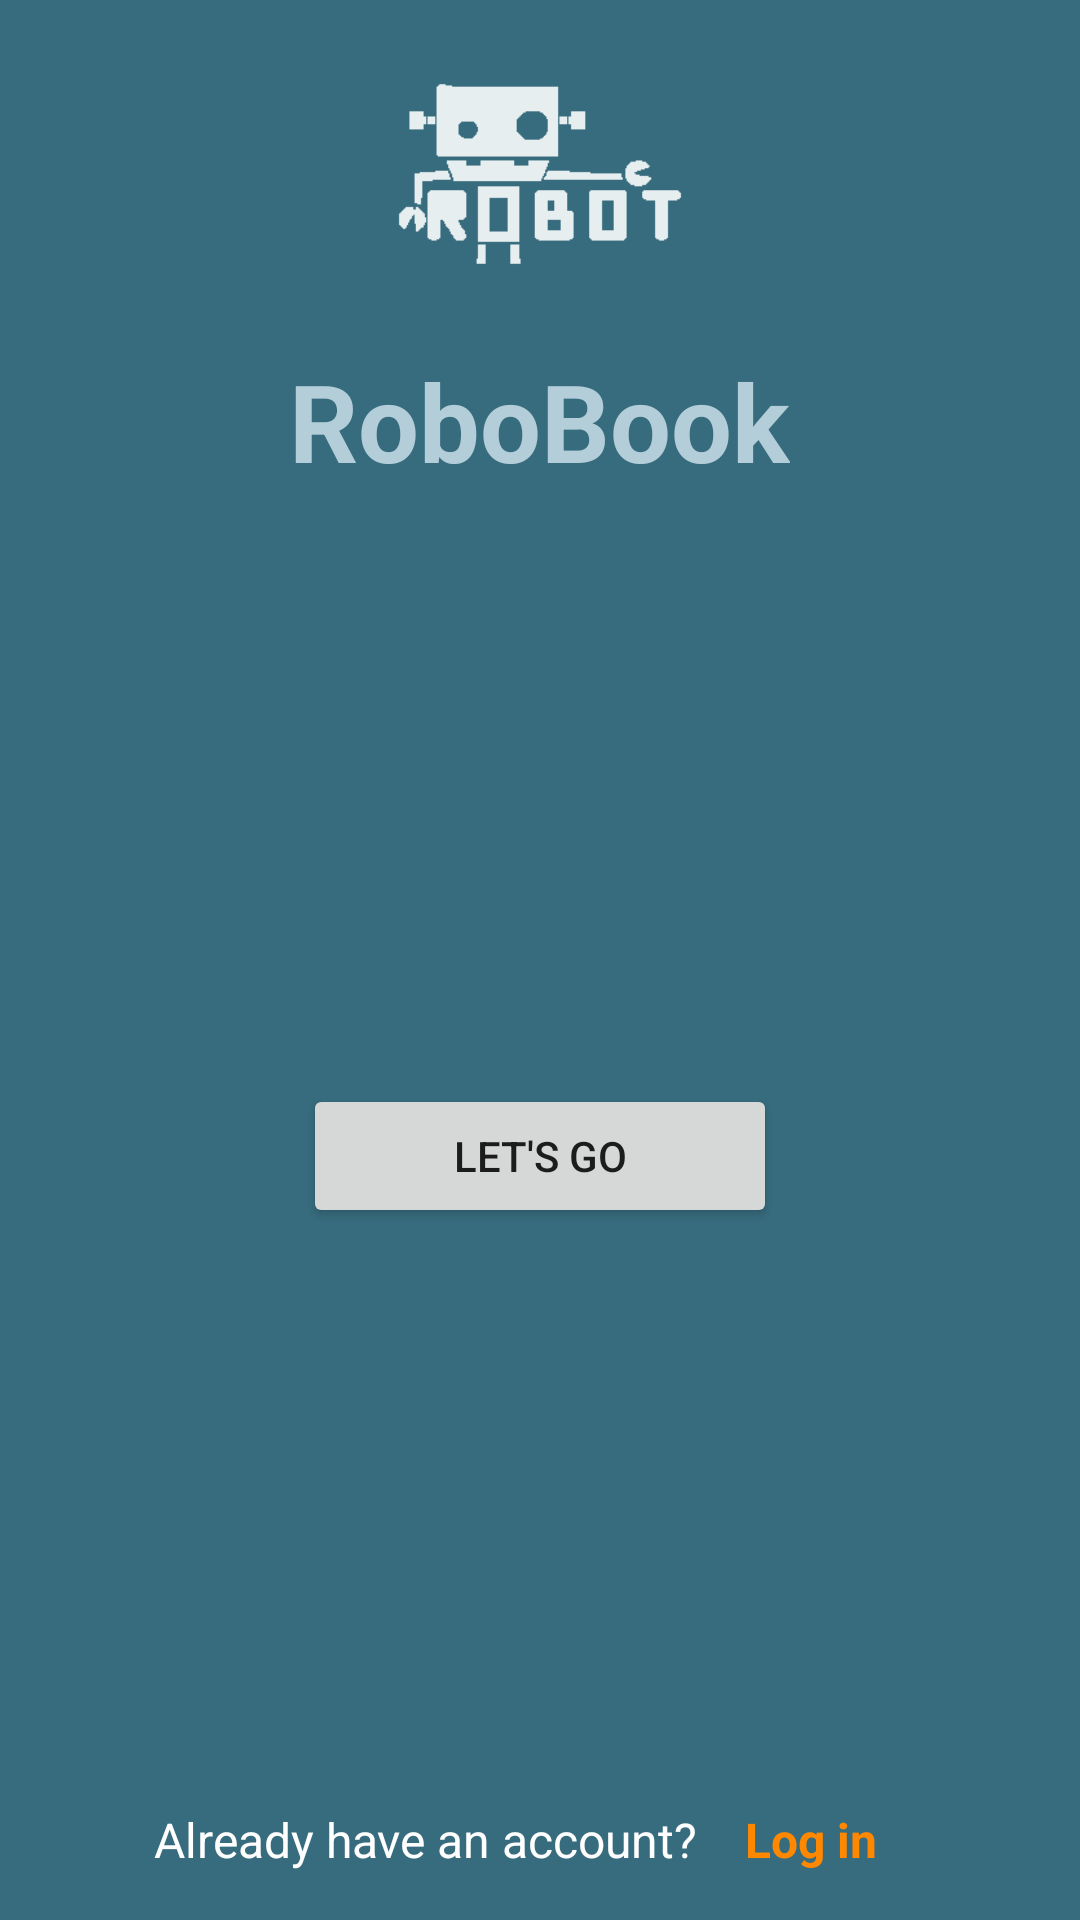

Icon bounding boxes for this 1080px×1920px phone screenshot, format (x1, y1, x2, y2):
krazyrobot: (399, 84, 681, 264)
